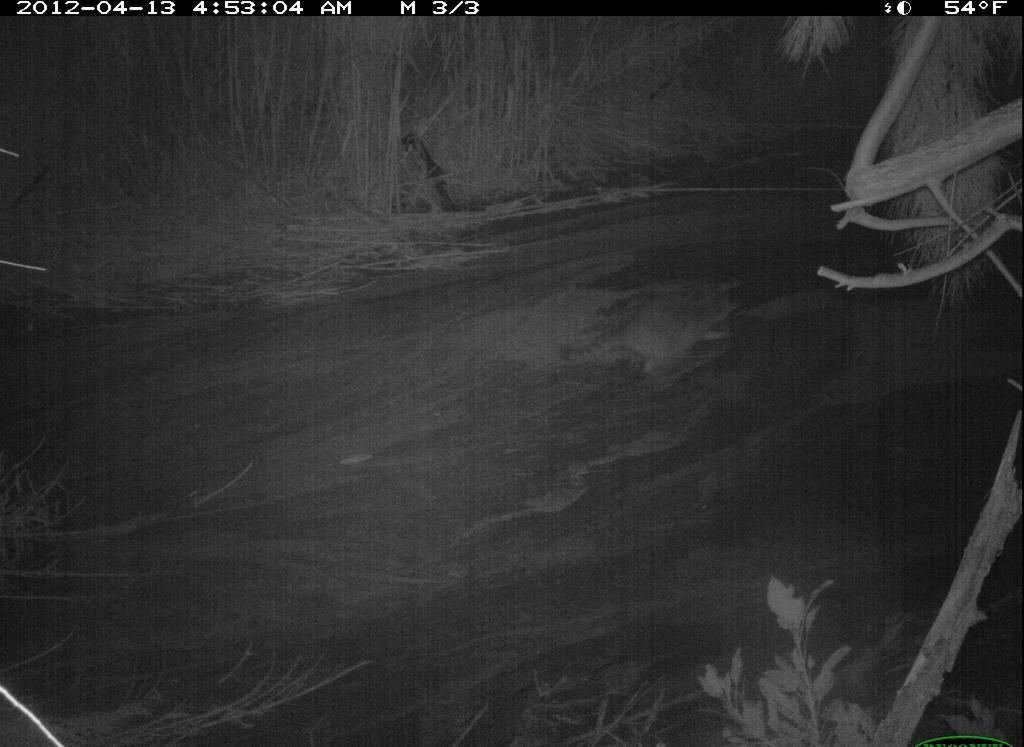raccoon: (552, 265, 754, 409)
